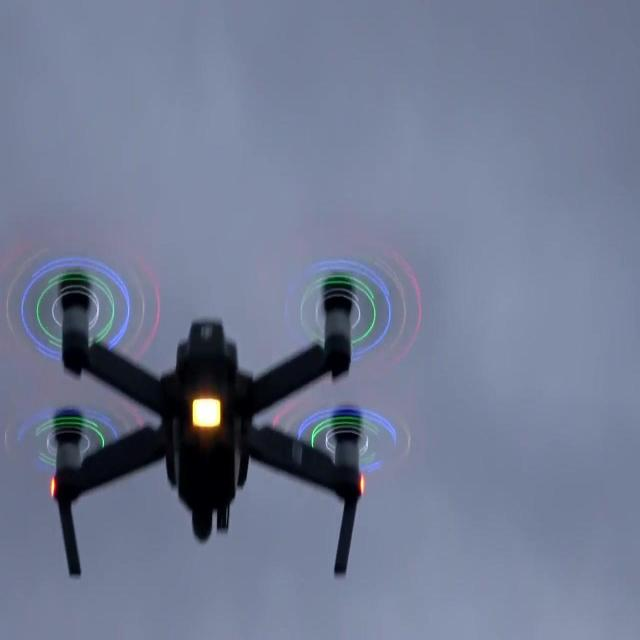drone: (8, 230, 425, 605)
